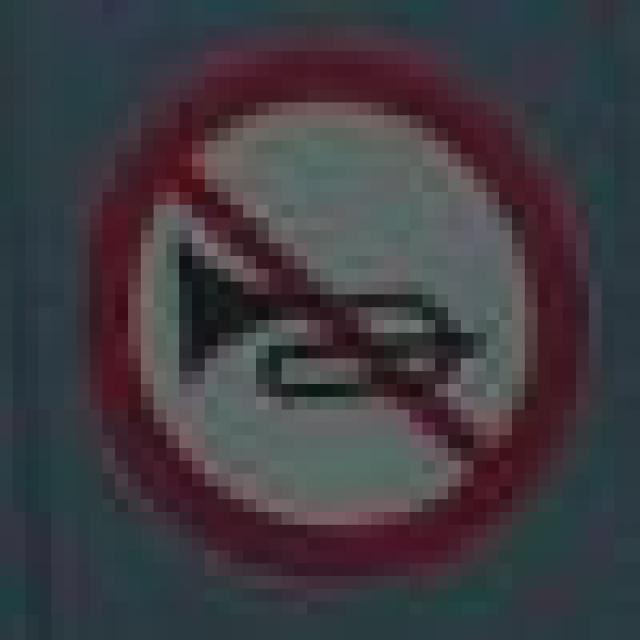HORN_PROHIBITED: (64, 38, 576, 576)
